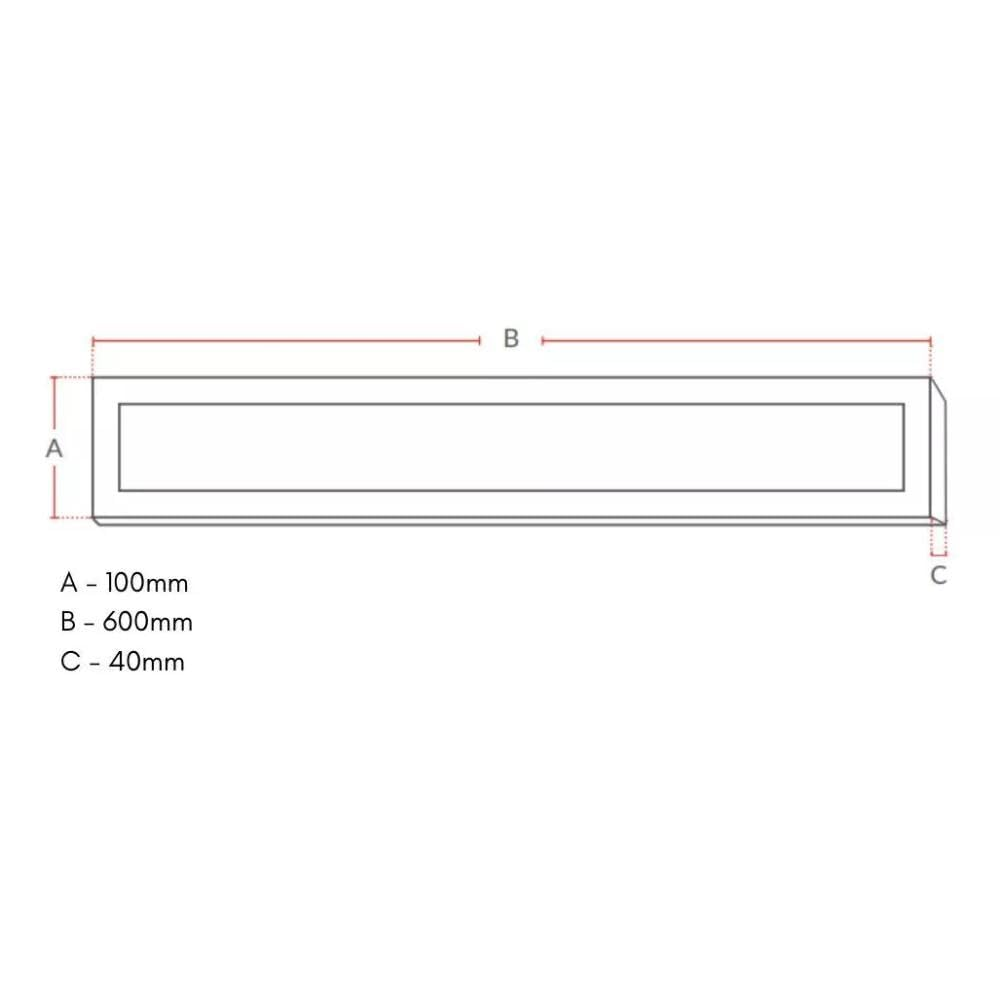-: (86, 584, 97, 587)
100mm: (106, 572, 187, 592)
4: (473, 336, 481, 346)
40mm: (109, 650, 184, 671)
600mm: (103, 611, 192, 631)
A: (60, 571, 77, 592)
B-: (62, 611, 94, 631)
